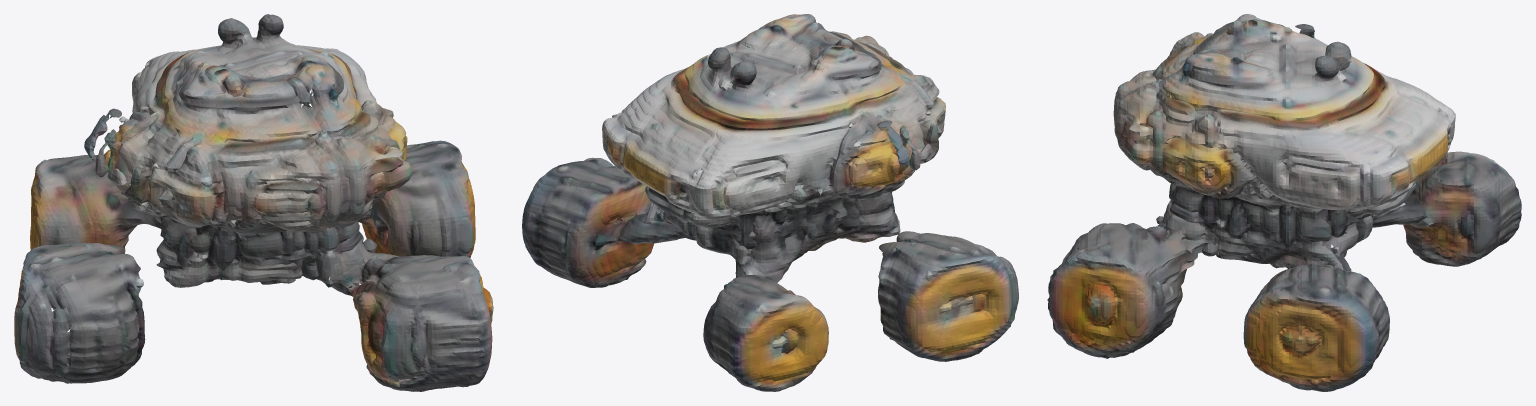
File: room-06-hero.glb
3 renders of one model, left to right at view 1: azimuth 30°, elevation 25°; view 2: azimuth 150°, elevation 25°; view 3: azimuth 270°, elevation 25°, orthographic. The views are drawn at different scales.
Parts seen in each view (by area): view 1: world; view 2: world; view 3: world.
Boxes of the visible parts, x1=… form: world: x1=14, y1=14, x2=493, y2=391; world: x1=522, y1=14, x2=1018, y2=391; world: x1=1047, y1=14, x2=1521, y2=391.
Size of the model in its own units: 1.07 by 0.6255 by 0.9987.
